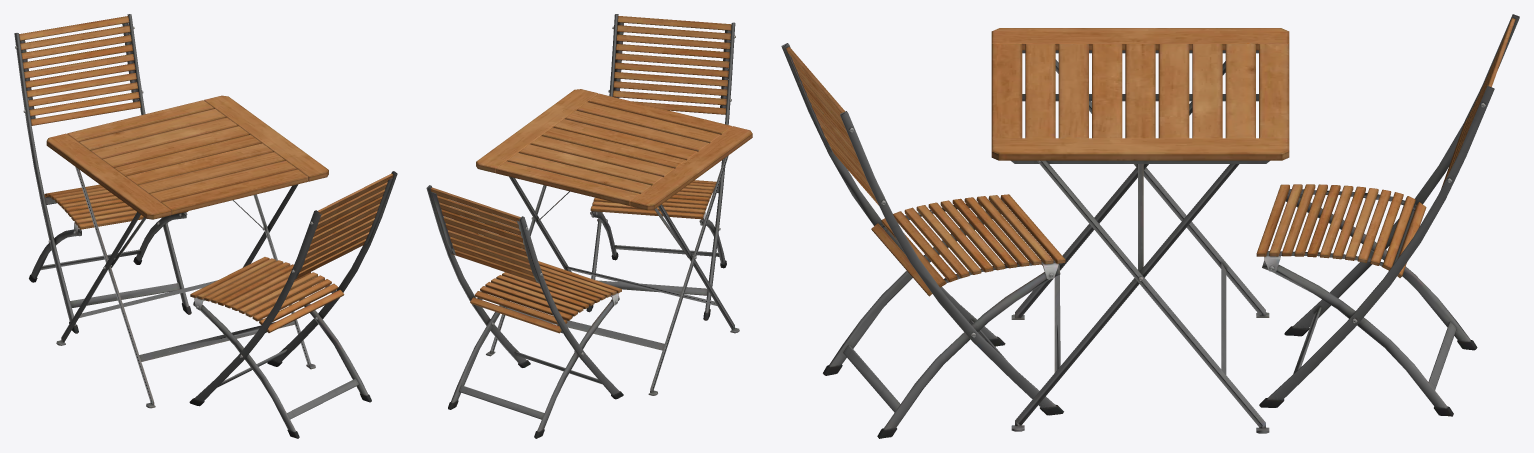
Rendered from cafe-set.glb.
3 views of the same model, side by side, from view 1: azimuth 30°, elevation 25°; view 2: azimuth 150°, elevation 25°; view 3: azimuth 270°, elevation 25° (orthographic). The views are drawn at different scales.
Parts seen in each view (by area): view 1: outdoor_table_chair_set_01_table, outdoor_table_chair_set_01_chair_02, outdoor_table_chair_set_01_chair_01; view 2: outdoor_table_chair_set_01_table, outdoor_table_chair_set_01_chair_02, outdoor_table_chair_set_01_chair_01; view 3: outdoor_table_chair_set_01_table, outdoor_table_chair_set_01_chair_01, outdoor_table_chair_set_01_chair_02.
Boxes of the visible parts, x1=… form: outdoor_table_chair_set_01_table: x1=46, y1=95, x2=328, y2=408; outdoor_table_chair_set_01_chair_02: x1=14, y1=14, x2=191, y2=333; outdoor_table_chair_set_01_chair_01: x1=189, y1=171, x2=397, y2=438; outdoor_table_chair_set_01_table: x1=476, y1=89, x2=752, y2=395; outdoor_table_chair_set_01_chair_02: x1=426, y1=185, x2=623, y2=438; outdoor_table_chair_set_01_chair_01: x1=586, y1=14, x2=735, y2=320; outdoor_table_chair_set_01_table: x1=991, y1=28, x2=1289, y2=433; outdoor_table_chair_set_01_chair_01: x1=781, y1=43, x2=1065, y2=438; outdoor_table_chair_set_01_chair_02: x1=1256, y1=14, x2=1519, y2=416.
Bounding box in the file's own units: 0.7417 × 0.8575 × 1.72.
2 materials, 2 textured.
